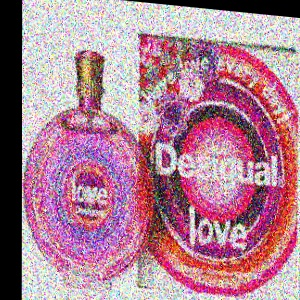desigual: (168, 73, 300, 221)
